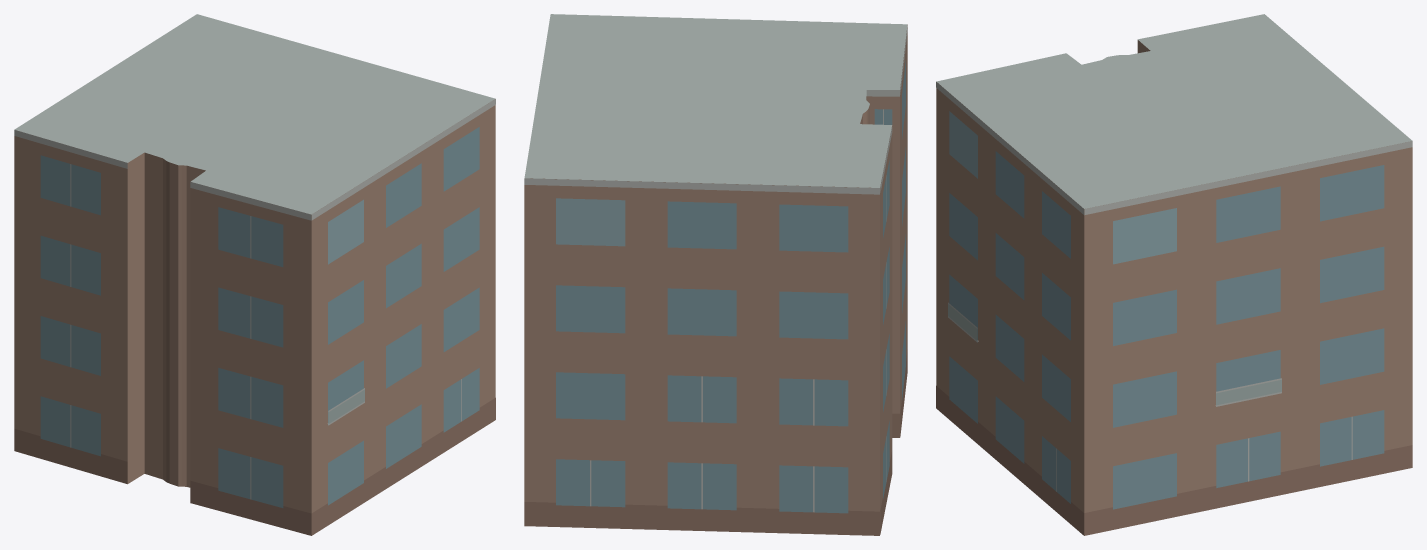
Rendered from survey-upis-32730136.glb.
3 renders of one model, left to right at view 1: azimuth 30°, elevation 25°; view 2: azimuth 150°, elevation 25°; view 3: azimuth 270°, elevation 25°, orthographic. The views are drawn at different scales.
Parts seen in each view (by area): view 1: survey-upis-32730136.tmp; view 2: survey-upis-32730136.tmp; view 3: survey-upis-32730136.tmp.
Part boxes in pixels (bbox=[...]): survey-upis-32730136.tmp: bbox=[14, 14, 495, 535]; survey-upis-32730136.tmp: bbox=[524, 14, 907, 535]; survey-upis-32730136.tmp: bbox=[936, 14, 1412, 535].
Size of the model in its own units: 16.39 by 12.8 by 16.92.
